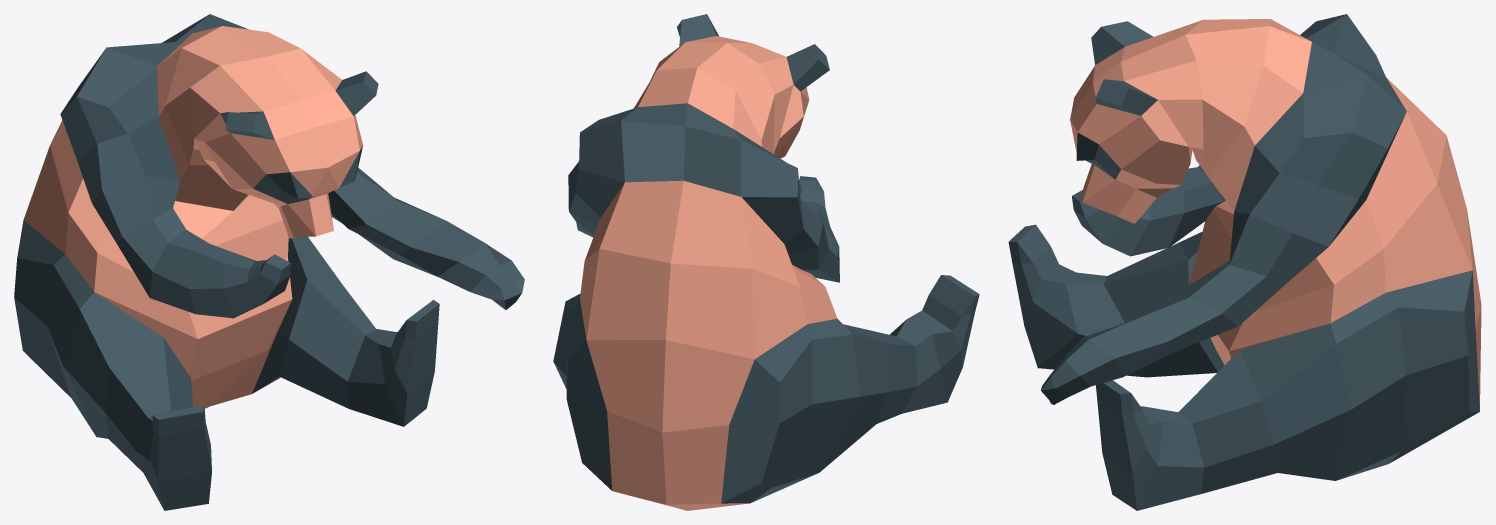
Rendered from animal_019.fbx.
The picture shows the model from 3 angles, left to right: view 1: azimuth 30°, elevation 25°; view 2: azimuth 150°, elevation 25°; view 3: azimuth 270°, elevation 25°; orthographic projection. The views are drawn at different scales.
Parts seen in each view (by area): view 1: animal.019; view 2: animal.019; view 3: animal.019.
Boxes of the visible parts, bbox=[...] form: animal.019: bbox=[14, 14, 524, 510]; animal.019: bbox=[553, 14, 979, 510]; animal.019: bbox=[1008, 14, 1481, 510].
Bounding box in the file's own units: 394 × 401 × 388.
1 material, 1 textured.
